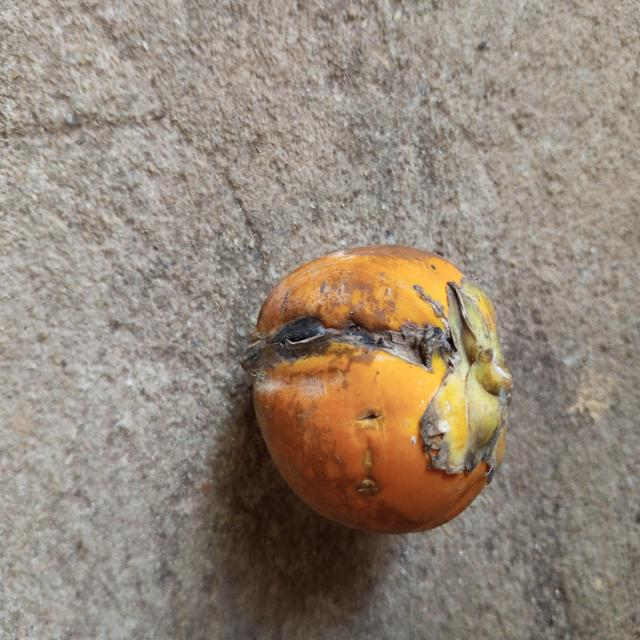damaged: (242, 246, 512, 537)
